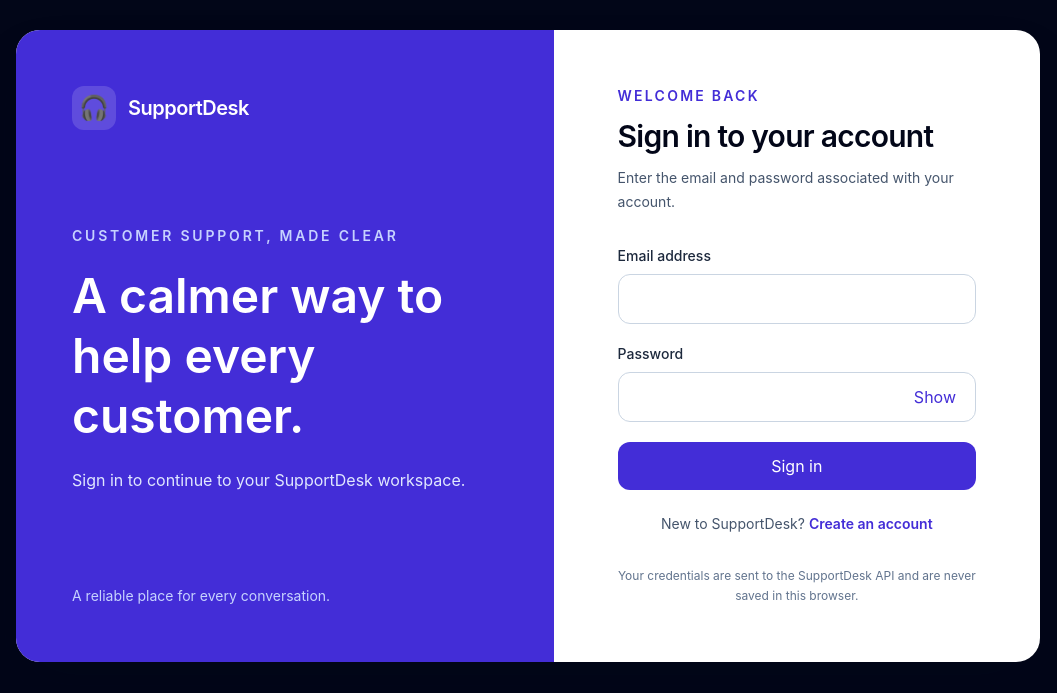
Test case: SupportDesk frontend foundation › rejects an invalid email before sending a login
The width and height of the screenshot is (1057, 693).
Type "not-an-email" into the field labelled "Email address". click: (797, 299)
box: [618,274,976,324]
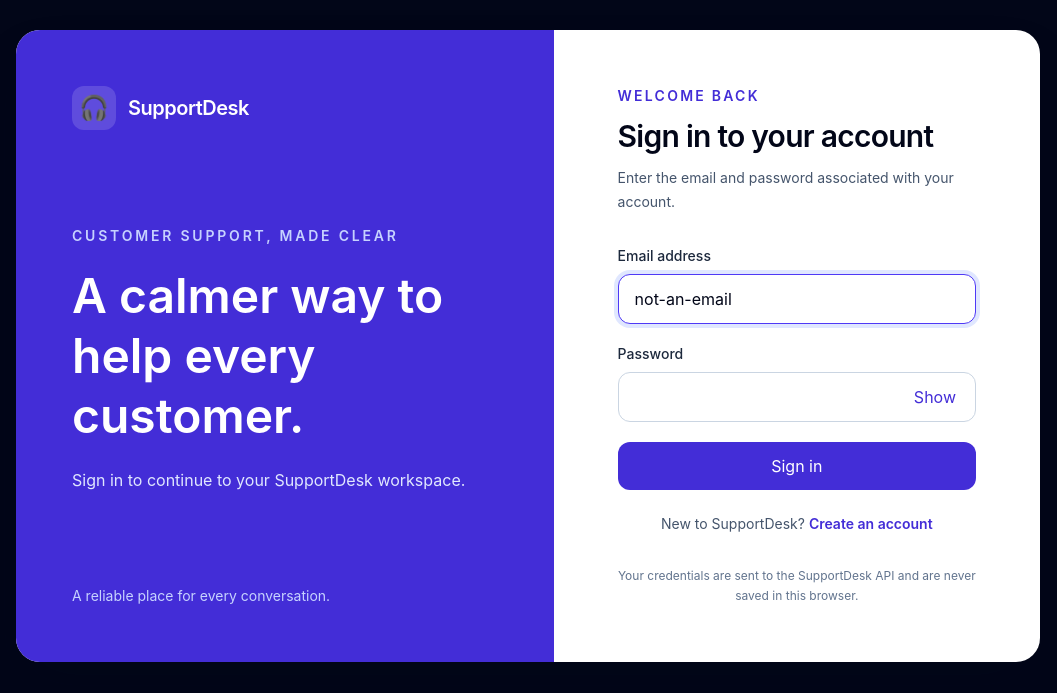
Type "password" into the password field labelled "Password". click: (797, 397)
box: [618,372,976,422]
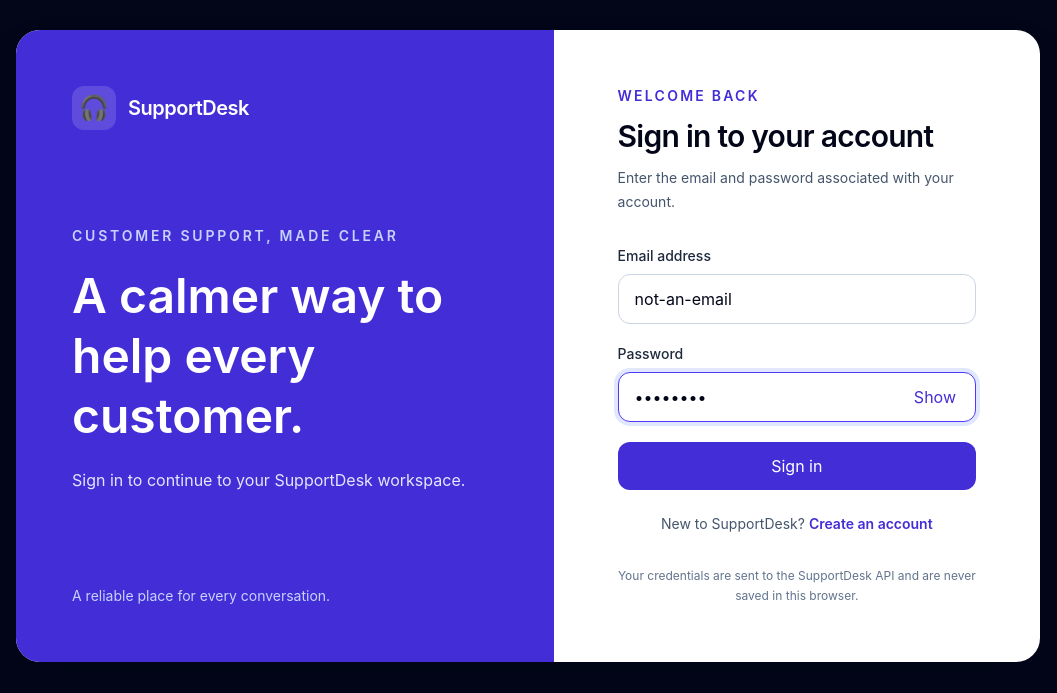
Click the button "Sign in". click: click(797, 466)
box: [618,442,976,490]
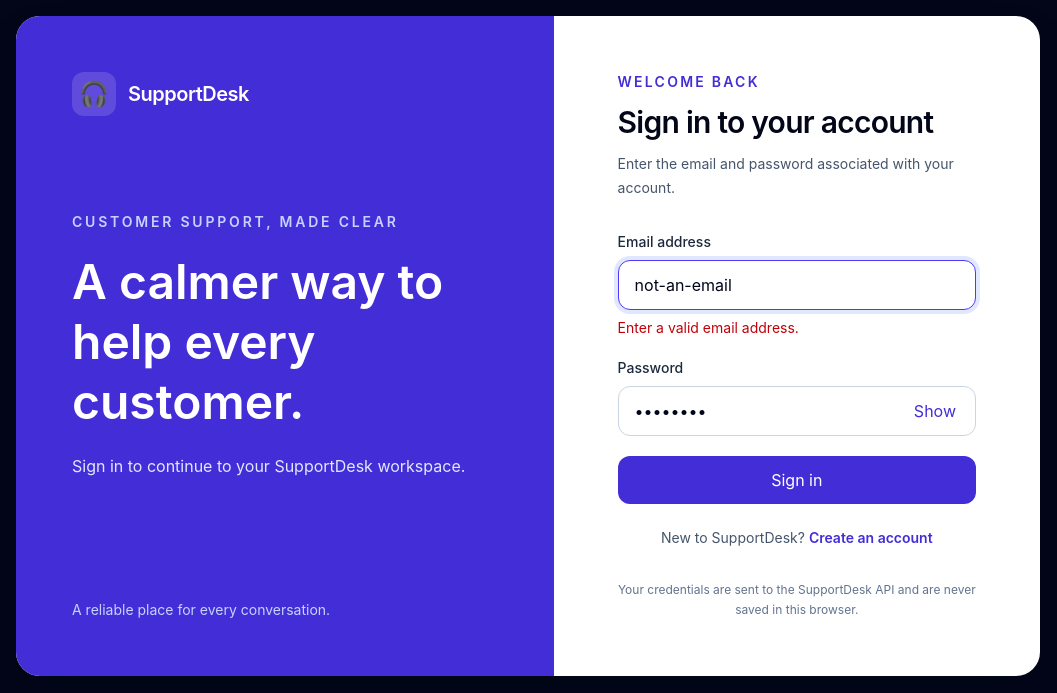
Now the text "Enter a valid email address." is shown, box [618,319,799,336]
